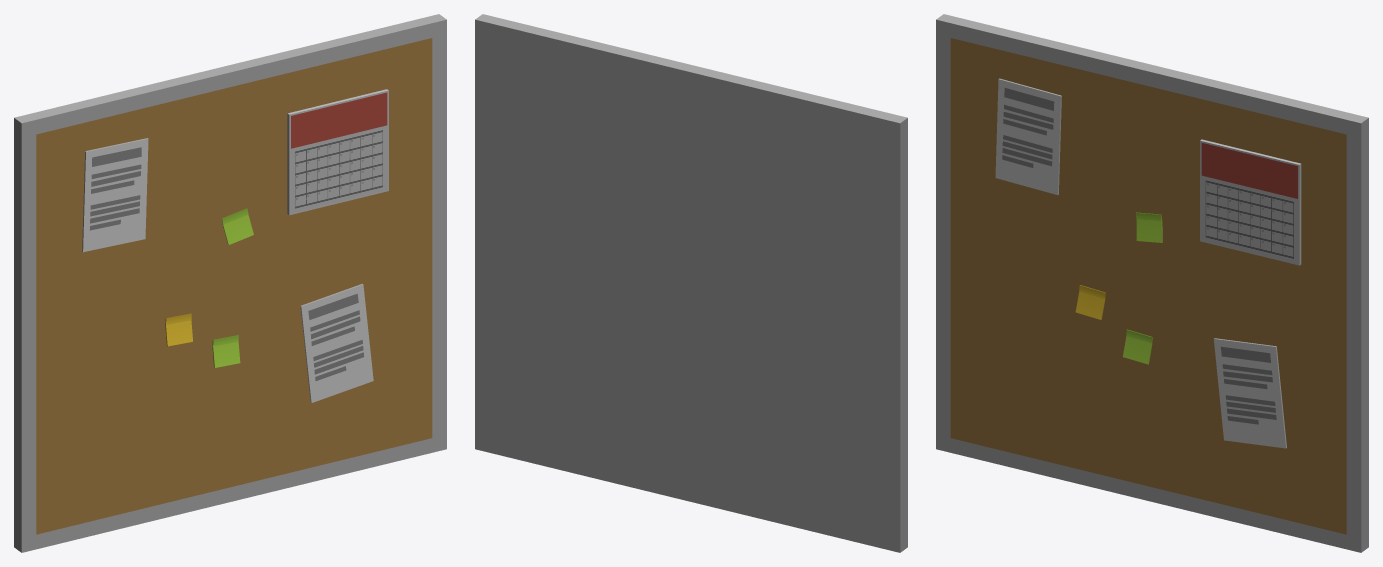
The model's file is SO_Pinboard_01.fbx.
3 views of the same model, side by side, from view 1: azimuth 30°, elevation 25°; view 2: azimuth 150°, elevation 25°; view 3: azimuth 330°, elevation 25° (orthographic).
Parts seen in each view (by area): view 1: SO_Pinboard_01; view 2: SO_Pinboard_01; view 3: SO_Pinboard_01.
Boxes of the visible parts, x1,y1,x2,y2 form: SO_Pinboard_01: [14, 14, 446, 552]; SO_Pinboard_01: [475, 14, 907, 552]; SO_Pinboard_01: [936, 14, 1368, 552].
Size of the model in its own units: 3.24 by 3.13 by 0.1441.
